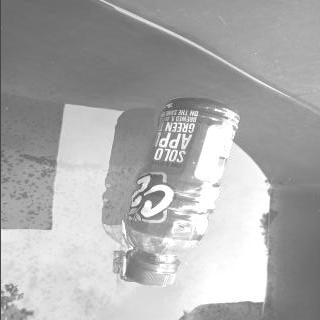bottle: (123, 97, 240, 288)
